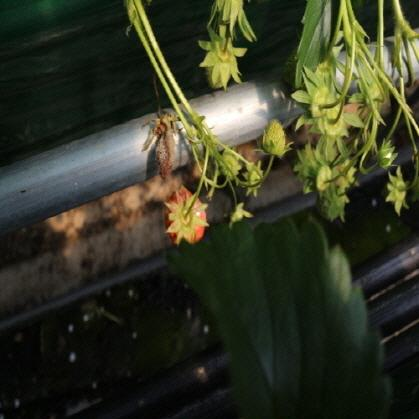Gray Mold: (150, 110, 183, 181)
